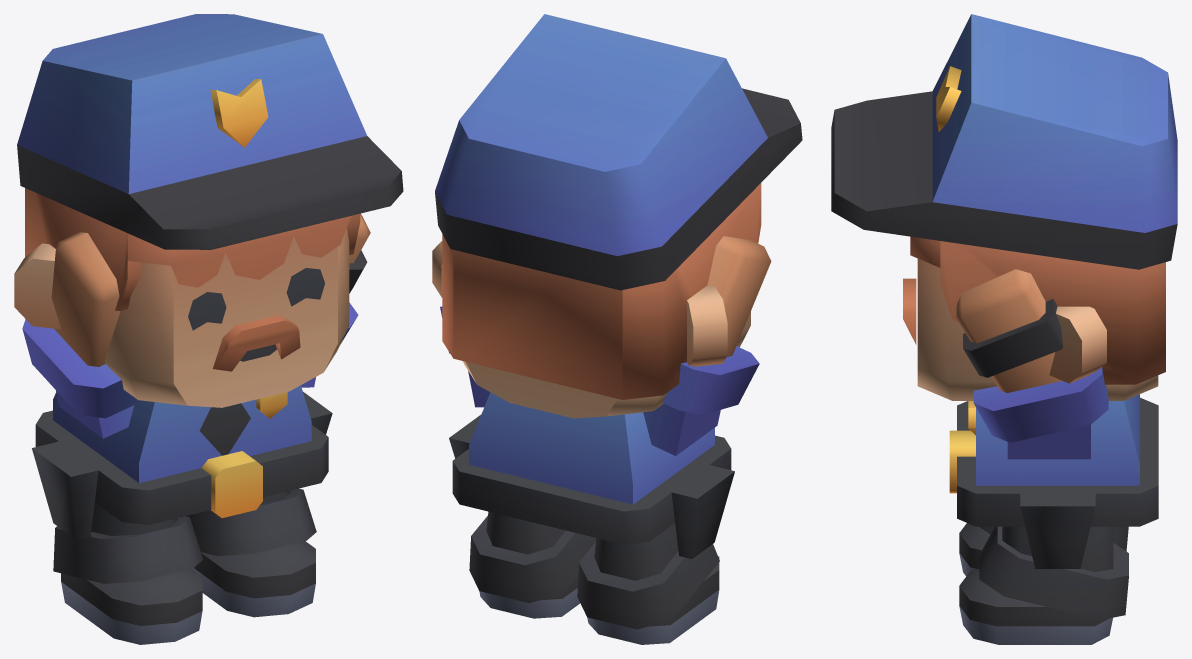
Rendered from people-male-c-idle.glb.
3 views of the same model, side by side, from view 1: azimuth 30°, elevation 25°; view 2: azimuth 150°, elevation 25°; view 3: azimuth 270°, elevation 25° (orthographic). The views are drawn at different scales.
Parts seen in each view (by area): view 1: character-male-c-idle; view 2: character-male-c-idle; view 3: character-male-c-idle.
Boxes of the visible parts, <box> form: character-male-c-idle: <box>14,14,403,644</box>; character-male-c-idle: <box>432,14,802,644</box>; character-male-c-idle: <box>831,14,1177,644</box>.
Size of the model in its own units: 0.4536 by 0.7928 by 0.4606.
1 material, 1 textured.
